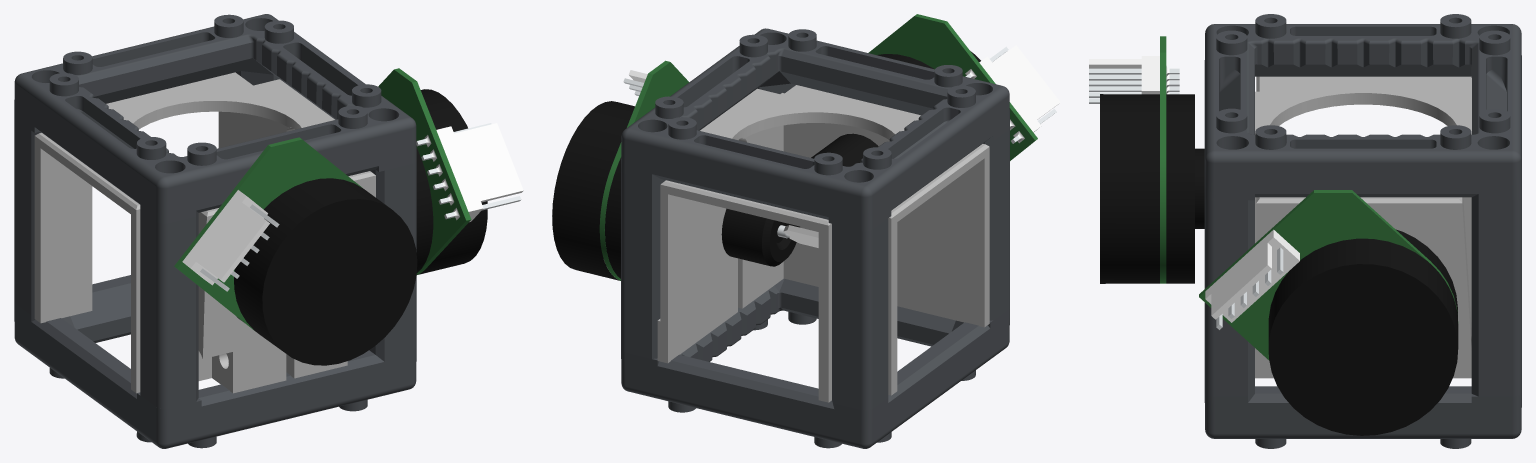
File: ASS_-_GalvoScanner_China_Unknownbrand.glb
The picture shows the model from 3 angles, left to right: view 1: azimuth 30°, elevation 25°; view 2: azimuth 150°, elevation 25°; view 3: azimuth 270°, elevation 25°; orthographic projection. The views are drawn at different scales.
Parts seen in each view (by area): view 1: PRT - 1003 - CUBHLF111 - V04:2, BUY - Galvo_Scanner_XY:1, PRT - 1003 - CUBHLF111 - V04:1, 20_Cube_insert_2D_Galvo_v3:1, BUY - Galvo_Scanner_XY:2; view 2: PRT - 1003 - CUBHLF111 - V04:2, 20_Cube_insert_2D_Galvo_v3:1, PRT - 1003 - CUBHLF111 - V04:1, BUY - Galvo_Scanner_XY:2, BUY - Galvo_Scanner_XY:1; view 3: PRT - 1003 - CUBHLF111 - V04:2, BUY - Galvo_Scanner_XY:2, BUY - Galvo_Scanner_XY:1, PRT - 1003 - CUBHLF111 - V04:1, 20_Cube_insert_2D_Galvo_v3:1.
Part boxes in pixels (left/top/right/bottom): PRT - 1003 - CUBHLF111 - V04:2: left=14, top=14, right=416, bottom=409; BUY - Galvo_Scanner_XY:1: left=174, top=137, right=417, bottom=365; PRT - 1003 - CUBHLF111 - V04:1: left=14, top=118, right=416, bottom=448; 20_Cube_insert_2D_Galvo_v3:1: left=34, top=72, right=375, bottom=393; BUY - Galvo_Scanner_XY:2: left=378, top=68, right=523, bottom=274; PRT - 1003 - CUBHLF111 - V04:2: left=621, top=28, right=1009, bottom=358; 20_Cube_insert_2D_Galvo_v3:1: left=657, top=85, right=989, bottom=402; PRT - 1003 - CUBHLF111 - V04:1: left=621, top=83, right=1009, bottom=448; BUY - Galvo_Scanner_XY:2: left=552, top=60, right=818, bottom=280; BUY - Galvo_Scanner_XY:1: left=811, top=14, right=1060, bottom=166; PRT - 1003 - CUBHLF111 - V04:2: left=1204, top=14, right=1521, bottom=396; BUY - Galvo_Scanner_XY:2: left=1199, top=190, right=1458, bottom=435; BUY - Galvo_Scanner_XY:1: left=1089, top=36, right=1204, bottom=283; PRT - 1003 - CUBHLF111 - V04:1: left=1204, top=77, right=1521, bottom=448; 20_Cube_insert_2D_Galvo_v3:1: left=1255, top=76, right=1471, bottom=378.
Size of the model in its own units: 71.22 by 57.07 by 67.96.
